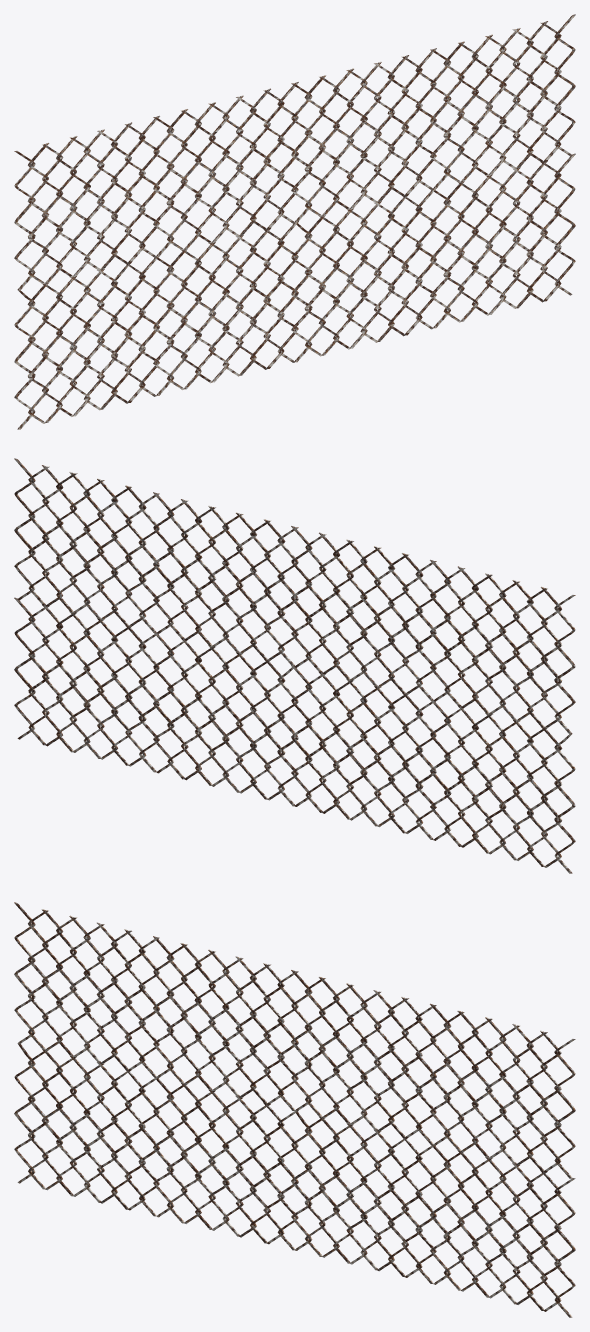
The model's file is Chainlink.obj.
The picture shows the model from 3 angles, top to bottom: view 1: azimuth 30°, elevation 25°; view 2: azimuth 150°, elevation 25°; view 3: azimuth 330°, elevation 25°; orthographic projection.
Visible parts, largest first — view 1: Cube.001_Cube.013; view 2: Cube.001_Cube.013; view 3: Cube.001_Cube.013.
Boxes of the visible parts, x1=… form: Cube.001_Cube.013: x1=14, y1=14, x2=575, y2=429; Cube.001_Cube.013: x1=14, y1=458, x2=575, y2=873; Cube.001_Cube.013: x1=14, y1=902, x2=575, y2=1317.
Bounding box in the file's own units: 9.2 × 4.38 × 0.0236.
